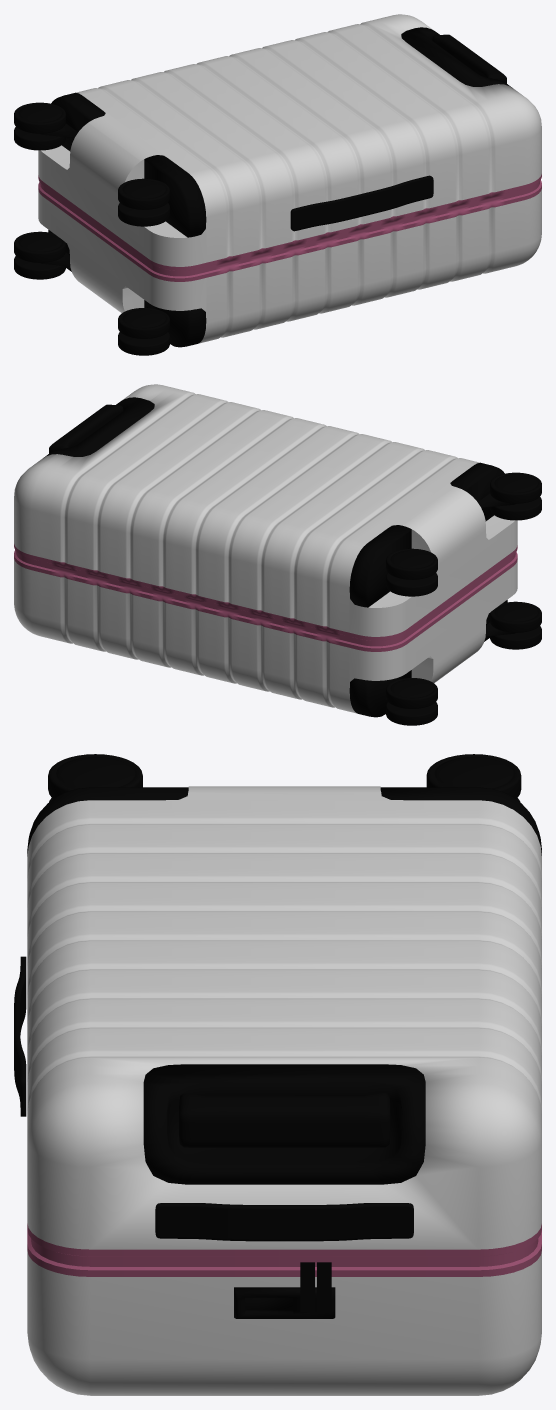
File: HandLuggage.dae
3 renders of one model, top to bottom at view 1: azimuth 30°, elevation 25°; view 2: azimuth 150°, elevation 25°; view 3: azimuth 270°, elevation 25°, orthographic. The views are drawn at different scales.
Parts seen in each view (by area): view 1: node_92032f56_3a09_43f9_a960_4d6dac14f786_mesh0, node_66b54363_7a49_4d8e_8d7d_d8f5c4162201_mesh0, node_5ba17d4d_4dda_4da0_9919_770b38c9d52a_mesh0, node_551593df_bfc4_45b0_a7c7_ffa15cc9d875_mesh0, node_f959d08c_a0bb_4e14_85a0_cac9396cafb5_mesh0, node_e27834ba_7444_4afe_9ab0_712b6e500a37_mesh0, node_9901e576_0726_4e9e_99b1_fe3db241a3a6_mesh0; view 2: node_92032f56_3a09_43f9_a960_4d6dac14f786_mesh0, node_66b54363_7a49_4d8e_8d7d_d8f5c4162201_mesh0, node_5ba17d4d_4dda_4da0_9919_770b38c9d52a_mesh0, node_f959d08c_a0bb_4e14_85a0_cac9396cafb5_mesh0, node_e27834ba_7444_4afe_9ab0_712b6e500a37_mesh0, node_9901e576_0726_4e9e_99b1_fe3db241a3a6_mesh0; view 3: node_92032f56_3a09_43f9_a960_4d6dac14f786_mesh0, node_f959d08c_a0bb_4e14_85a0_cac9396cafb5_mesh0, node_e27834ba_7444_4afe_9ab0_712b6e500a37_mesh0, node_a9040bfd_ad2c_49eb_ba4f_76db3dee5d55_mesh0, node_66b54363_7a49_4d8e_8d7d_d8f5c4162201_mesh0, node_5ba17d4d_4dda_4da0_9919_770b38c9d52a_mesh0, node_f390506c_ce68_44e0_8590_4b59c3825bee_mesh0, node_551593df_bfc4_45b0_a7c7_ffa15cc9d875_mesh0, node_68282a3d_2d81_4bc8_9c55_815206a3c0a0_mesh0.
Part boxes in pixels (box(x1,y1,x2,y2)): node_92032f56_3a09_43f9_a960_4d6dac14f786_mesh0: box(38, 14, 541, 343); node_66b54363_7a49_4d8e_8d7d_d8f5c4162201_mesh0: box(14, 102, 169, 355); node_5ba17d4d_4dda_4da0_9919_770b38c9d52a_mesh0: box(48, 92, 206, 347); node_551593df_bfc4_45b0_a7c7_ffa15cc9d875_mesh0: box(290, 175, 433, 231); node_f959d08c_a0bb_4e14_85a0_cac9396cafb5_mesh0: box(401, 27, 511, 87); node_e27834ba_7444_4afe_9ab0_712b6e500a37_mesh0: box(432, 34, 506, 83); node_9901e576_0726_4e9e_99b1_fe3db241a3a6_mesh0: box(40, 123, 170, 329); node_92032f56_3a09_43f9_a960_4d6dac14f786_mesh0: box(14, 384, 517, 713); node_66b54363_7a49_4d8e_8d7d_d8f5c4162201_mesh0: box(386, 472, 541, 725); node_5ba17d4d_4dda_4da0_9919_770b38c9d52a_mesh0: box(349, 462, 507, 717); node_f959d08c_a0bb_4e14_85a0_cac9396cafb5_mesh0: box(44, 397, 154, 457); node_e27834ba_7444_4afe_9ab0_712b6e500a37_mesh0: box(49, 404, 123, 453); node_9901e576_0726_4e9e_99b1_fe3db241a3a6_mesh0: box(385, 493, 515, 699); node_92032f56_3a09_43f9_a960_4d6dac14f786_mesh0: box(27, 786, 541, 1395); node_f959d08c_a0bb_4e14_85a0_cac9396cafb5_mesh0: box(143, 1064, 425, 1184); node_e27834ba_7444_4afe_9ab0_712b6e500a37_mesh0: box(179, 1092, 390, 1147); node_a9040bfd_ad2c_49eb_ba4f_76db3dee5d55_mesh0: box(155, 1203, 413, 1241); node_66b54363_7a49_4d8e_8d7d_d8f5c4162201_mesh0: box(48, 754, 521, 801); node_5ba17d4d_4dda_4da0_9919_770b38c9d52a_mesh0: box(27, 787, 541, 856); node_f390506c_ce68_44e0_8590_4b59c3825bee_mesh0: box(234, 1287, 335, 1318); node_551593df_bfc4_45b0_a7c7_ffa15cc9d875_mesh0: box(14, 956, 26, 1116); node_68282a3d_2d81_4bc8_9c55_815206a3c0a0_mesh0: box(300, 1262, 331, 1311).
Bounding box in the file's own units: 0.5967 × 0.3571 × 0.2316.
